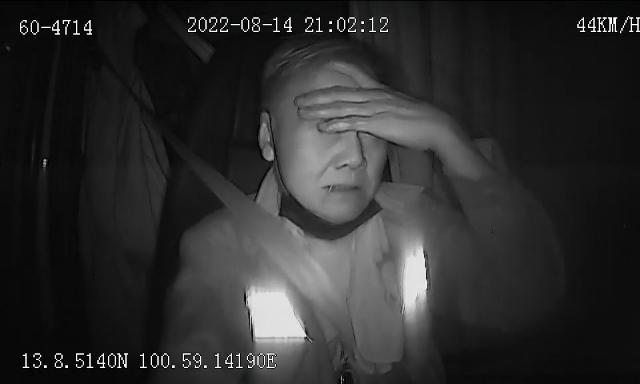Seatbelt: (197, 166, 356, 352)
